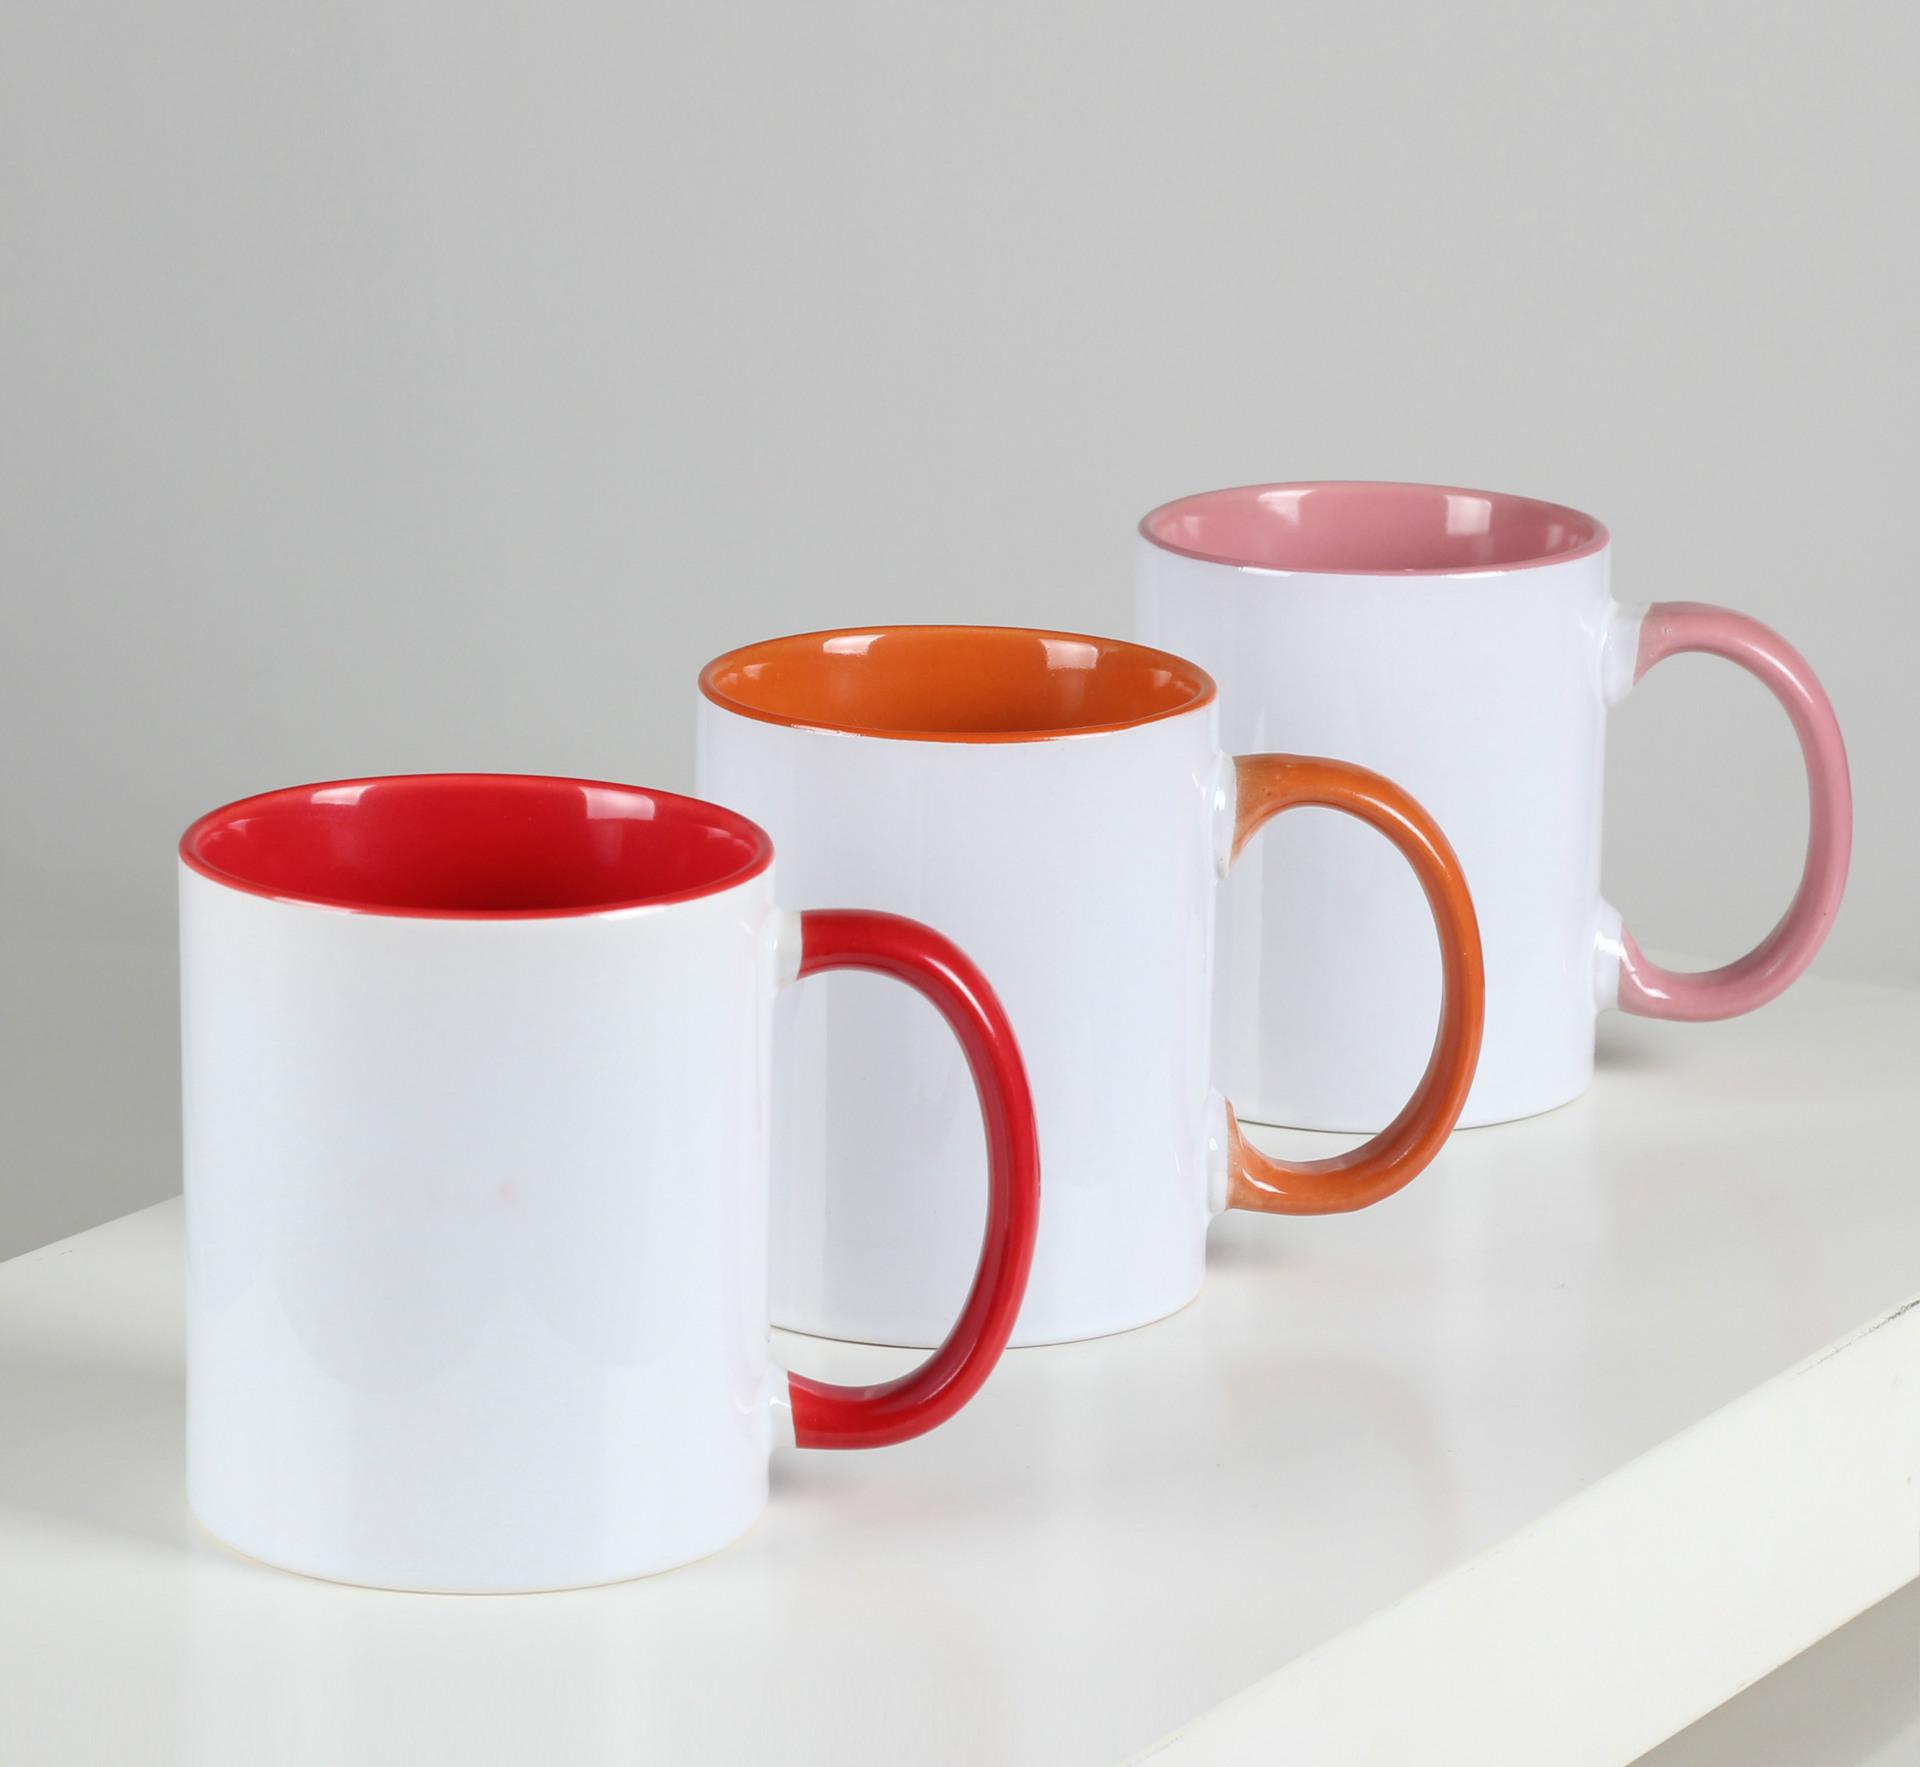cup: (169, 771, 1050, 1598), (691, 619, 1490, 1359), (1131, 470, 1861, 1142)
